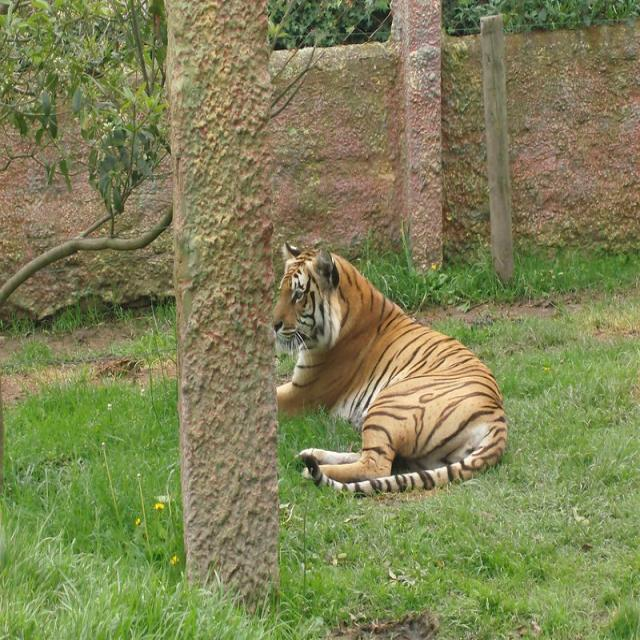Tiger: (270, 241, 507, 495)
